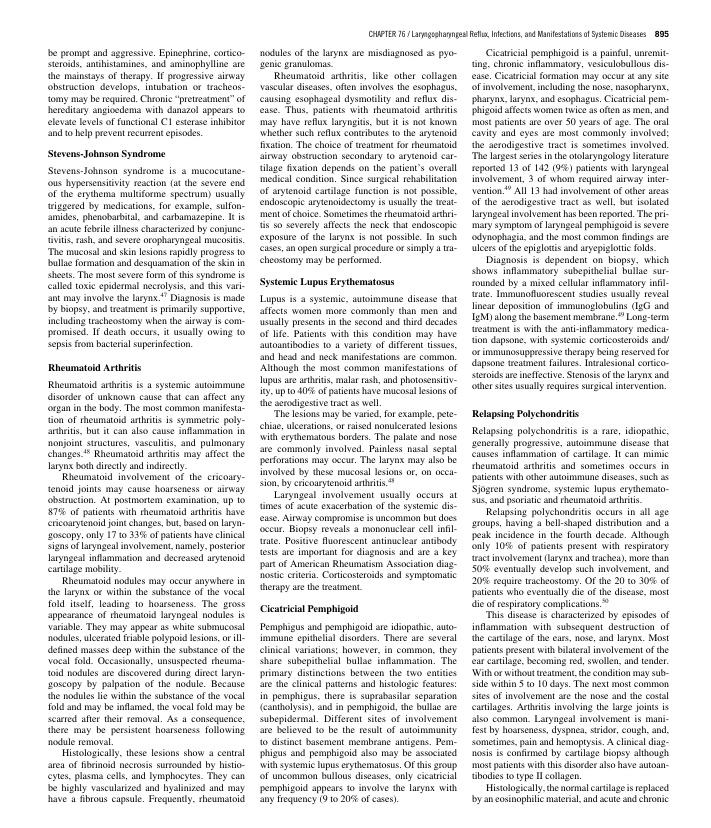header: (368, 29, 648, 40)
sub-section-heading: (259, 277, 395, 288), (47, 148, 166, 160), (471, 409, 580, 420), (259, 604, 359, 615), (47, 363, 142, 372)
text: (47, 380, 246, 806), (471, 425, 670, 806), (471, 47, 670, 393), (258, 294, 458, 592), (259, 47, 458, 266), (47, 166, 246, 351), (259, 622, 458, 805), (47, 47, 247, 140)
